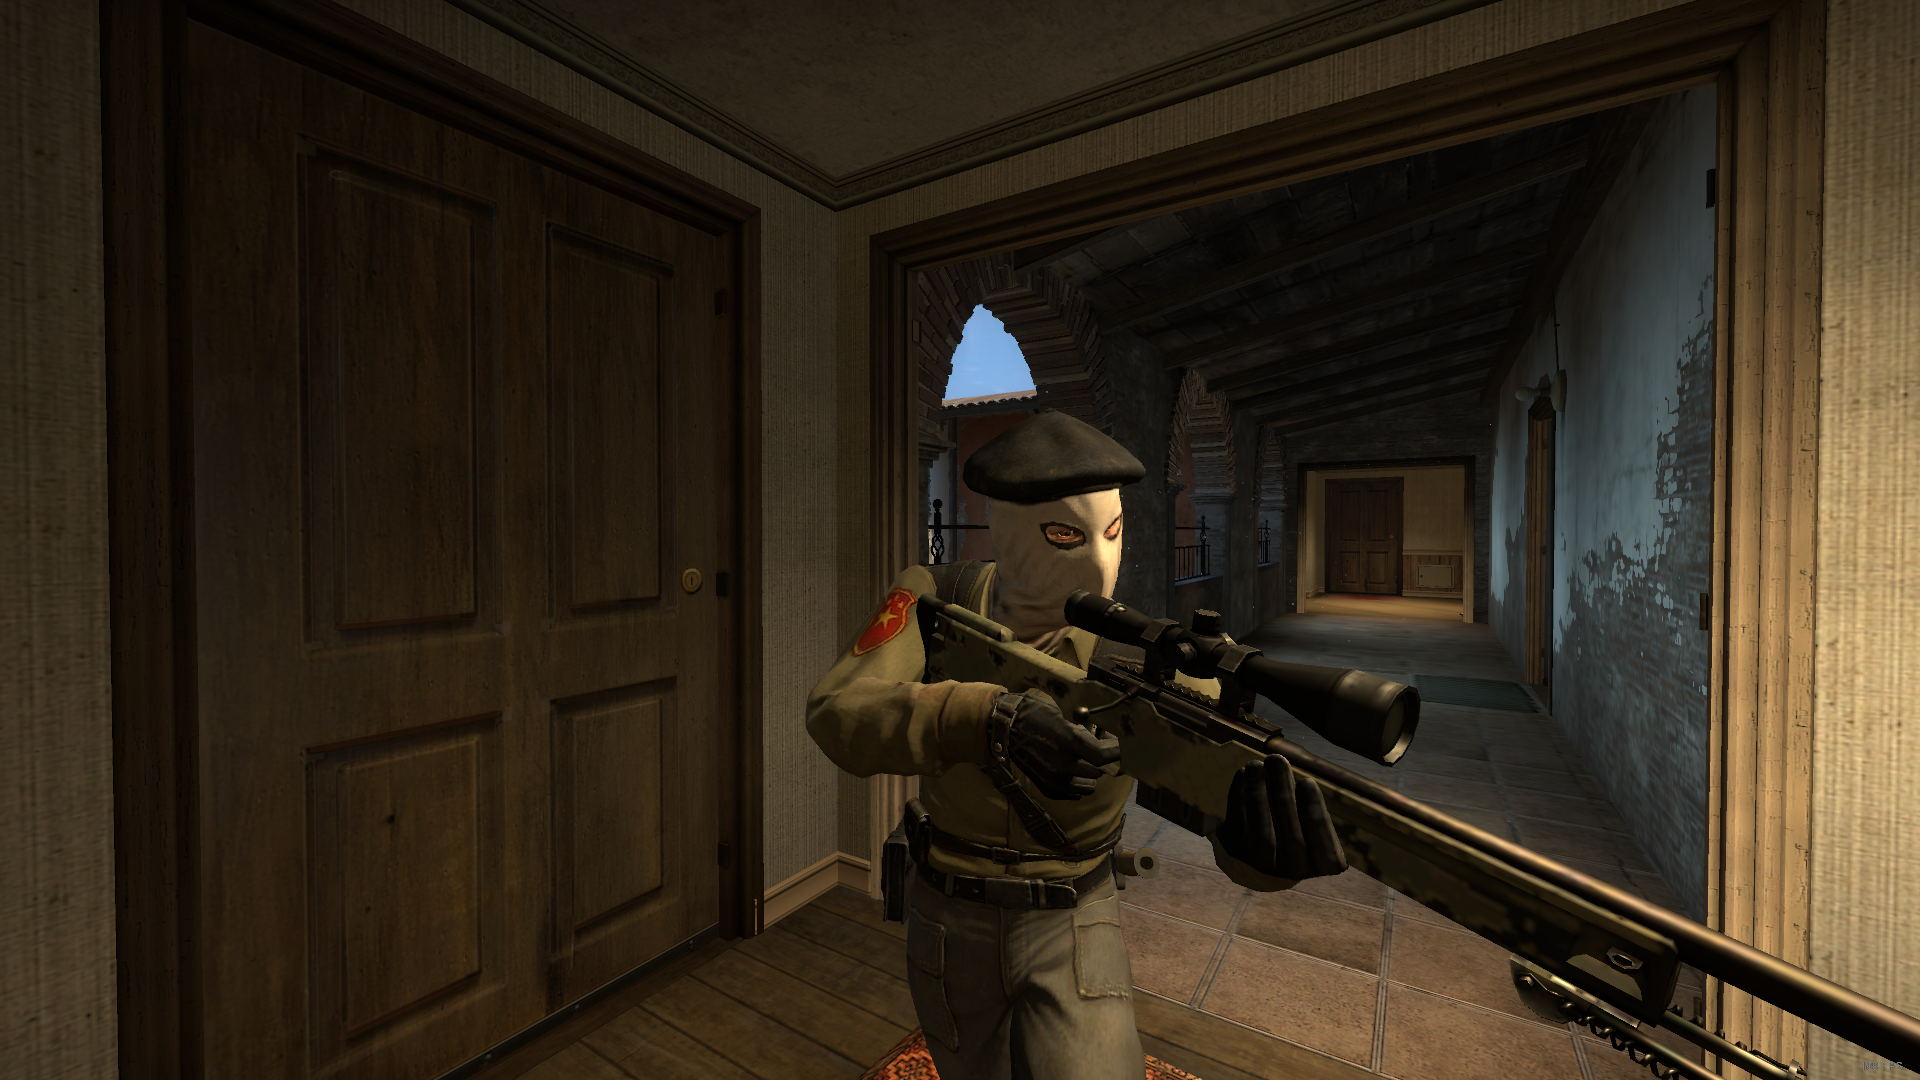t: (814, 411, 1350, 1080)
